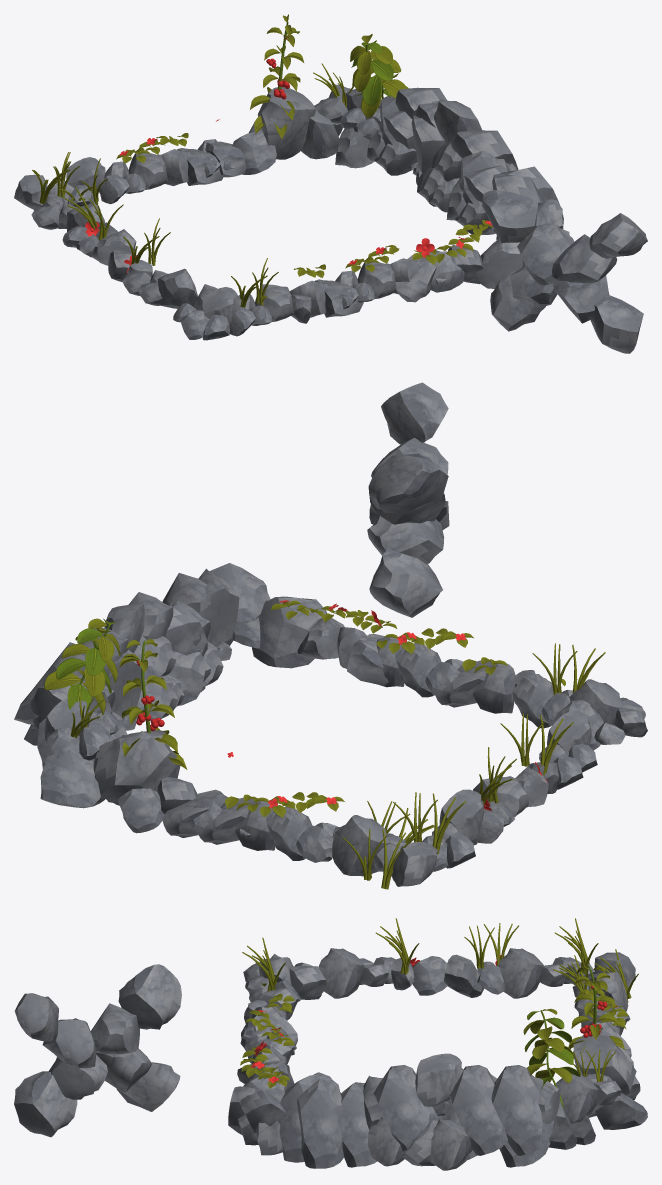
3 renders of one model, top to bottom at view 1: azimuth 30°, elevation 25°; view 2: azimuth 150°, elevation 25°; view 3: azimuth 270°, elevation 25°, orthographic. The views are drawn at different scales.
Parts seen in each view (by area): view 1: Plant, Stone_035, Stone_069.002, Stone_078.002, Stone_005.001, Stone_005.003, Leaf_022, Stone_069, Stone_078.003, Stone_005.002, Stone_052.002, Stone_050.001 (+49 smaller); view 2: Stone_035, Plant, Stone_069.002, Stone_052.002, Stone_078.003, Stone_069, Stone_054.001, Stone_005.004, Leaf_022, Stone_063, Stone_037.001, Stone_051.001 (+42 smaller); view 3: Stone_050, Stone_049.001, Stone_049, Stone_050.001, Stone_069.002, Stone_078.002, Plant, Stone_047.001, Stone_035, Stone_048, Stone_005.001, Stone_005.003 (+42 smaller).
Boxes of the visible parts, x1,y1,x2,y2 form: Plant: (350,34,408,117); Stone_035: (257,86,315,159); Stone_069.002: (482,190,538,242); Stone_078.002: (590,295,643,353); Stone_005.001: (517,223,574,285); Stone_005.003: (552,234,617,283); Leaf_022: (250,14,303,138); Stone_069: (589,213,647,258); Stone_078.003: (490,269,545,331); Stone_005.002: (553,275,609,323); Stone_052.002: (476,238,525,288); Stone_050.001: (450,130,518,169); Stone_035: (94,730,180,805); Plant: (44,618,120,715); Stone_069.002: (368,453,448,513); Stone_052.002: (252,596,327,668); Stone_078.003: (369,548,442,617); Stone_069: (381,382,448,444); Stone_054.001: (40,749,105,808); Stone_005.004: (367,515,444,564); Leaf_022: (119,639,187,769); Stone_063: (332,815,388,876); Stone_037.001: (198,568,239,645); Stone_051.001: (209,563,270,622); Stone_050: (491,1065,553,1155); Stone_049.001: (297,1079,343,1168); Stone_049: (449,1065,508,1155); Stone_050.001: (373,1065,438,1155); Stone_069.002: (118,964,181,1029); Stone_078.002: (14,1071,77,1137); Plant: (523,1008,580,1108); Stone_047.001: (339,1082,377,1167); Stone_035: (573,1035,636,1095); Stone_048: (415,1053,463,1106); Stone_005.001: (90,1003,139,1054); Stone_005.003: (42,1018,95,1068).
Size of the model in its own units: 17.97 by 6.32 by 24.27.
10 materials, 5 textured.
